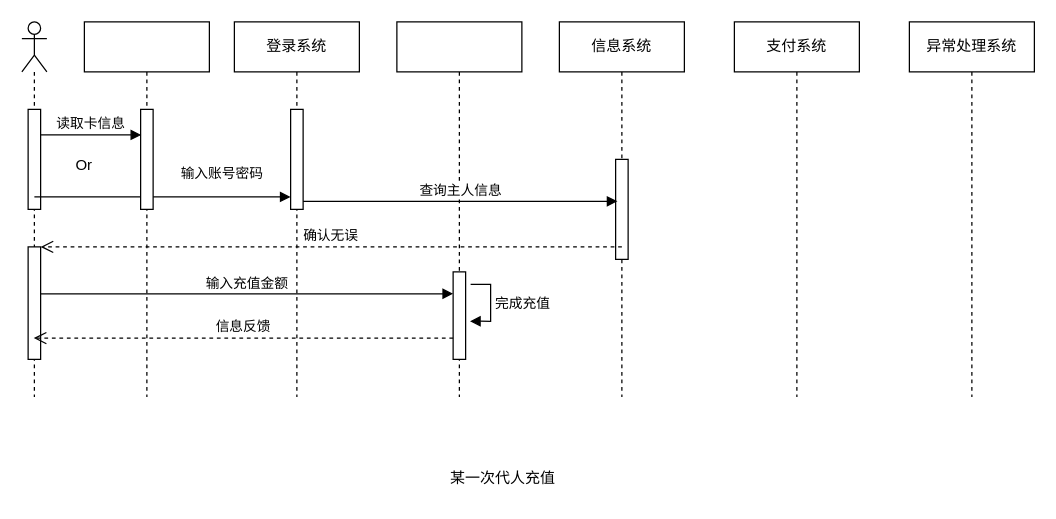
This 1056x519 diagram has some shape labels left out. Each missing label, with the box of its shape:
充值系统: (396, 21, 522, 397)
识别系统: (83, 21, 209, 397)
